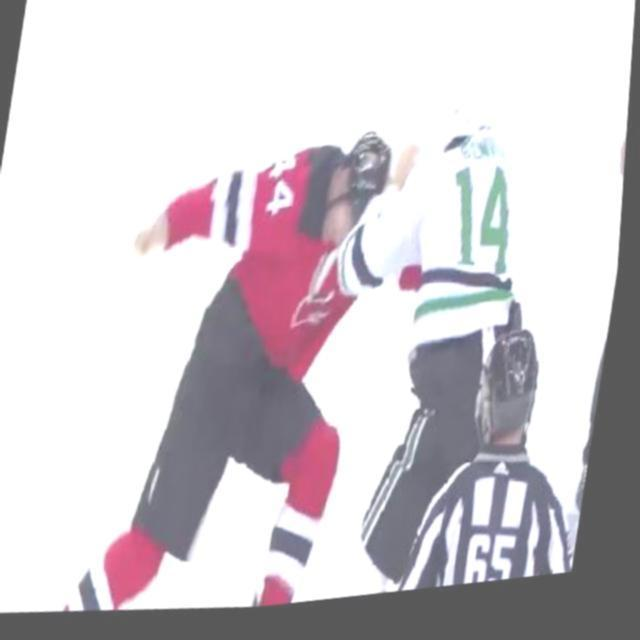fight: (160, 54, 560, 624), (94, 108, 512, 570)
